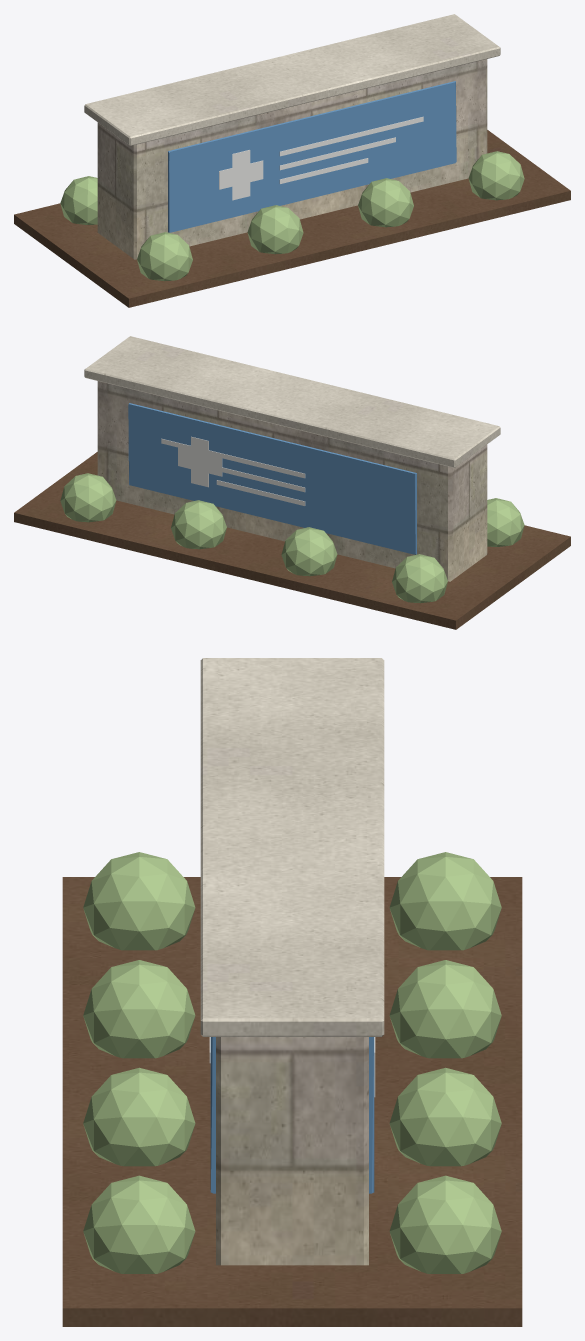
The model's file is monument_sign.glb.
The picture shows the model from 3 angles, top to bottom: view 1: azimuth 30°, elevation 25°; view 2: azimuth 150°, elevation 25°; view 3: azimuth 270°, elevation 25°; orthographic projection. The views are drawn at different scales.
Parts seen in each view (by area): view 1: monument_sign_blue, monument_sign_mulch, monument_sign_coping, monument_sign_stone, monument_sign_leaf2, monument_sign_paint_w; view 2: monument_sign_blue, monument_sign_mulch, monument_sign_coping, monument_sign_stone, monument_sign_leaf2, monument_sign_paint_w; view 3: monument_sign_mulch, monument_sign_coping, monument_sign_leaf2, monument_sign_stone, monument_sign_blue.
Boxes of the visible parts, x1,y1,x2,y2 form: monument_sign_blue: (168,81,456,232); monument_sign_mulch: (14,130,570,307); monument_sign_coping: (84,14,500,145); monument_sign_stone: (97,59,487,259); monument_sign_leaf2: (60,151,524,281); monument_sign_paint_w: (219,116,423,200); monument_sign_blue: (128,403,416,554); monument_sign_mulch: (14,452,570,629); monument_sign_coping: (84,336,500,467); monument_sign_stone: (97,381,487,581); monument_sign_leaf2: (60,473,524,603); monument_sign_paint_w: (161,436,305,505); monument_sign_mulch: (62,877,522,1326); monument_sign_coping: (200,658,384,1036); monument_sign_leaf2: (83,852,501,1273); monument_sign_stone: (216,1037,368,1265); monument_sign_blue: (210,1037,374,1193).
Bounding box in the file's own units: 4 × 1.22 × 1.8.
6 materials, 3 textured.
